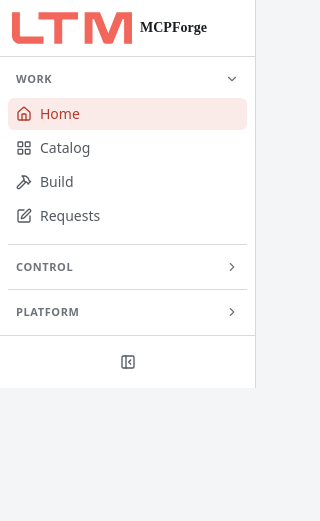
Test: Sidebar — group expansion (03 §5.2) › shows the Approvals badge in rail mode when approvalsCount > 0
What coordinates should you click on to do the following:
click the button named "Collapse sidebar"
I would click on:
 (128, 362)
Its box is [110, 344, 146, 380].
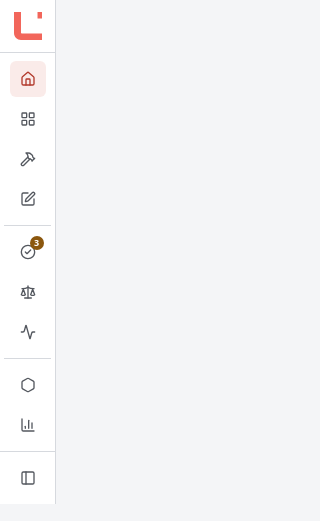
Expected: the text "3" is shown, [30, 236, 44, 250]
